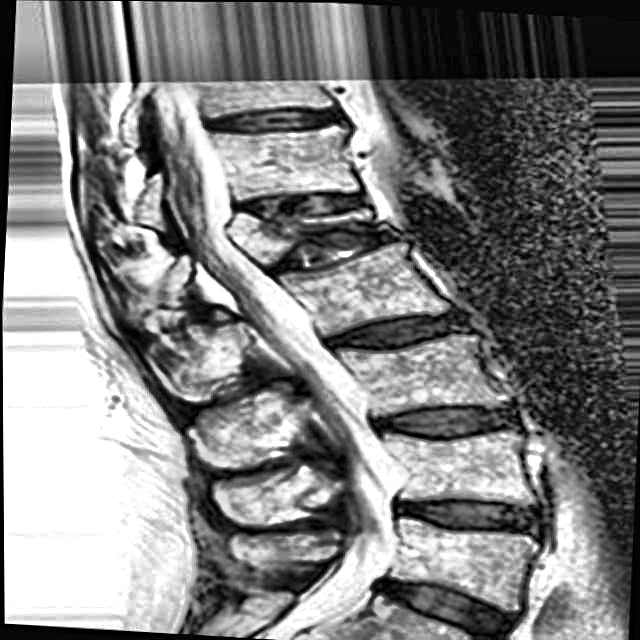Comminuted: (224, 178, 398, 283)
